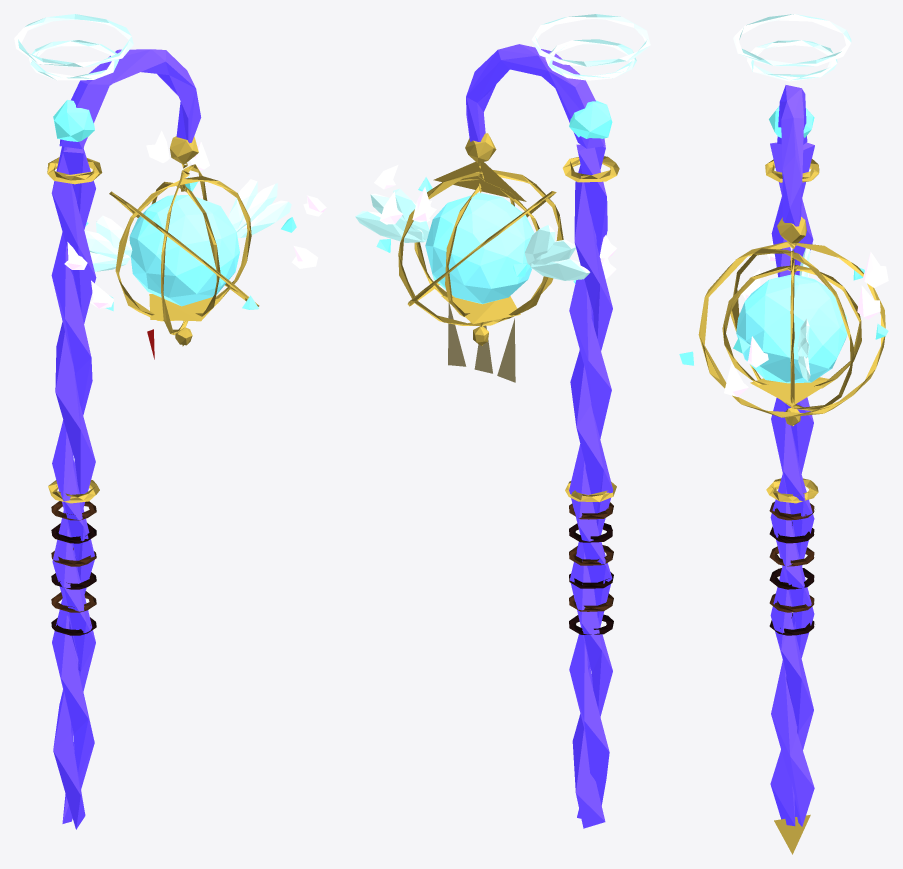
Rendered from lantern_9.glb.
3 views of the same model, side by side, from view 1: azimuth 30°, elevation 25°; view 2: azimuth 150°, elevation 25°; view 3: azimuth 270°, elevation 25° (orthographic).
Parts seen in each view (by area): view 1: Staff__002, Staff__001, Lantern__016, Staff__003, Lantern__018, Halo__052, Staff__014, Halo__051, Lantern__028, Lantern__019, Lantern__020, Lantern__024 (+7 smaller); view 2: Staff__001, Staff__002, Lantern__016, Staff__003, Lantern__019, Halo__052, Lantern__027, Staff__014, Halo__051, Lantern__028, Lantern__018, Lantern__021 (+10 smaller); view 3: Lantern__016, Staff__002, Staff__001, Staff__003, Lantern__020, Lantern__017, Lantern__019, Halo__052, Halo__051, Lantern__028, Lantern__018, Staff__013 (+6 smaller).
Boxes of the visible parts, x1,y1,x2,y2 form: Staff__002: (51, 146, 96, 829); Staff__001: (51, 148, 95, 823); Lantern__016: (129, 195, 239, 306); Staff__003: (59, 49, 201, 149); Lantern__018: (115, 176, 251, 321); Halo__052: (14, 14, 133, 67); Staff__014: (53, 100, 94, 141); Halo__051: (28, 40, 118, 80); Lantern__028: (149, 294, 222, 321); Lantern__019: (161, 164, 207, 335); Lantern__020: (109, 191, 259, 306); Lantern__024: (237, 200, 291, 237); Staff__001: (570, 138, 613, 828); Staff__002: (569, 144, 612, 818); Lantern__016: (425, 192, 534, 304); Staff__003: (466, 44, 604, 148); Lantern__019: (398, 170, 563, 325); Halo__052: (531, 14, 650, 66); Lantern__027: (433, 161, 526, 201); Staff__014: (569, 100, 612, 138); Halo__051: (545, 39, 636, 80); Lantern__028: (441, 295, 520, 324); Lantern__018: (414, 177, 548, 322); Lantern__021: (530, 259, 590, 280); Lantern__016: (736, 274, 847, 383); Staff__002: (770, 142, 814, 826); Staff__001: (770, 142, 814, 826); Staff__003: (777, 85, 807, 226); Lantern__020: (698, 242, 885, 417); Lantern__017: (722, 265, 861, 388); Lantern__019: (730, 248, 854, 410); Halo__052: (733, 14, 851, 66); Halo__051: (747, 40, 837, 81); Lantern__028: (750, 377, 828, 405); Lantern__018: (790, 257, 794, 407); Staff__013: (774, 814, 810, 854).
Bounding box in the file's own units: 0.4639 × 1.27 × 0.2963.
